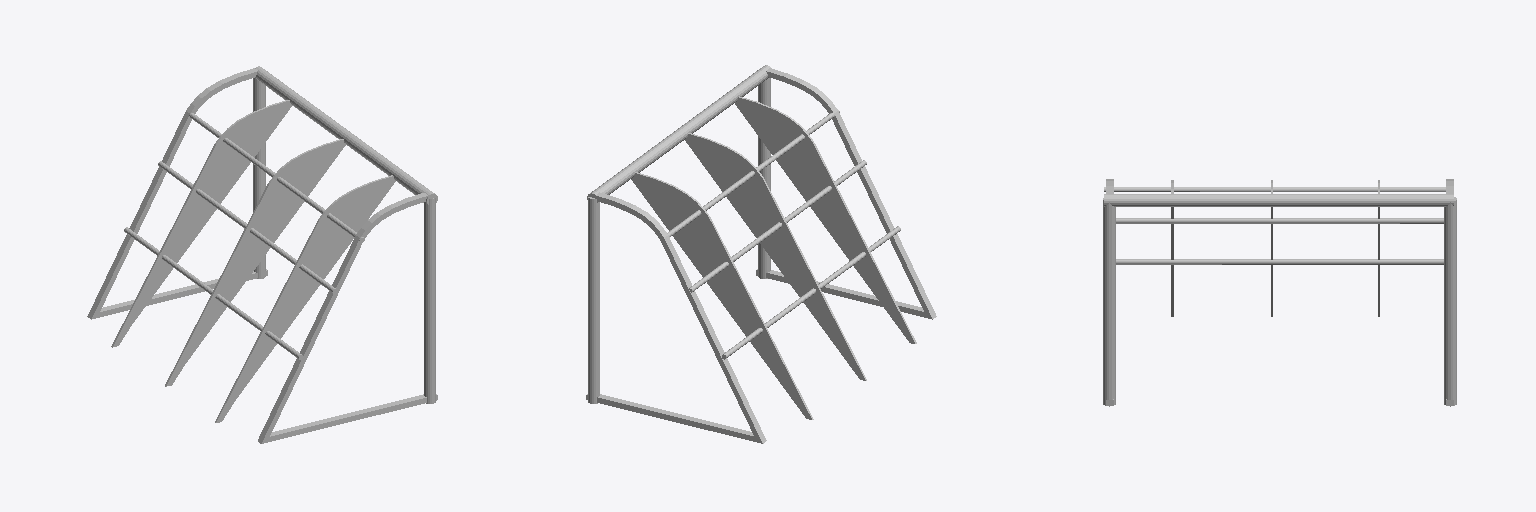
Rendered from vorota.obj.
3 renders of one model, left to right at view 1: azimuth 30°, elevation 25°; view 2: azimuth 150°, elevation 25°; view 3: azimuth 270°, elevation 25°, orthographic.
Parts seen in each view (by area): view 1: Cylinder004, Cylinder003; view 2: Cylinder004, Cylinder003; view 3: Cylinder003, Cylinder004.
Part boxes in pixels (left/top/right/bottom): Cylinder004: left=111, top=100, right=395, bottom=422; Cylinder003: left=87, top=66, right=437, bottom=443; Cylinder004: left=631, top=96, right=916, bottom=419; Cylinder003: left=586, top=65, right=936, bottom=443; Cylinder003: left=1103, top=179, right=1456, bottom=406; Cylinder004: left=1104, top=180, right=1445, bottom=316.
Bounding box in the file's own units: 19.23 × 20.29 × 31.11.